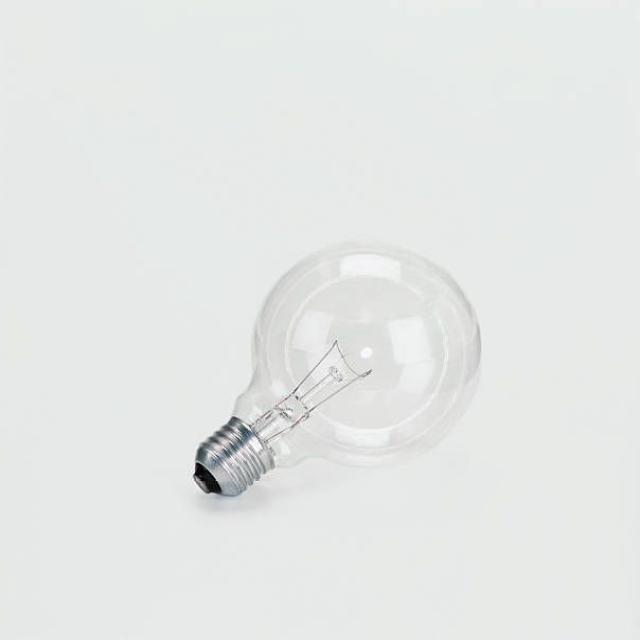electronic: (192, 238, 482, 497)
